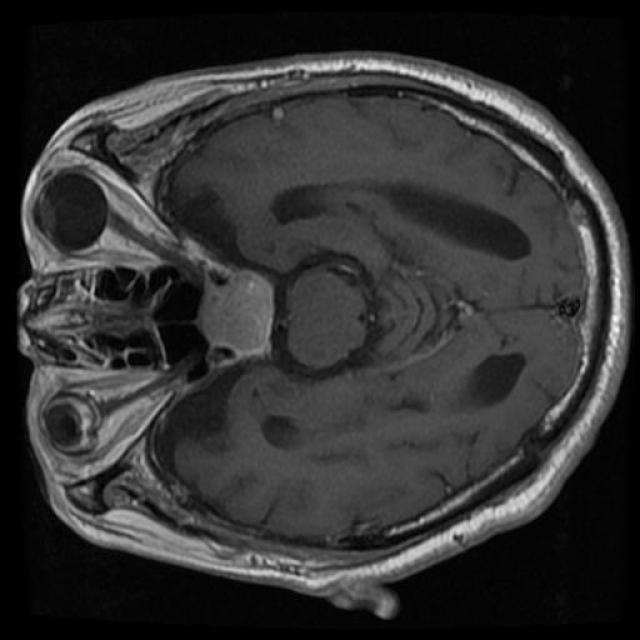Pituitary: (194, 269, 274, 367)
